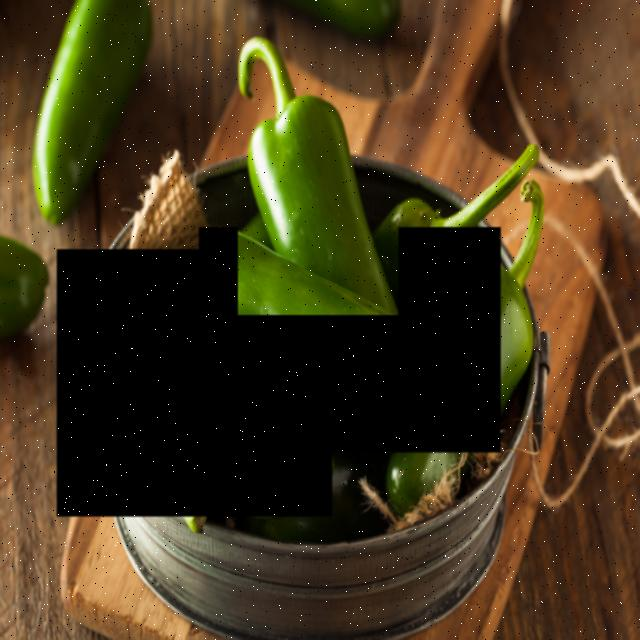Chili_Pepper: (57, 249, 332, 517), (199, 228, 501, 453), (238, 36, 398, 315)
